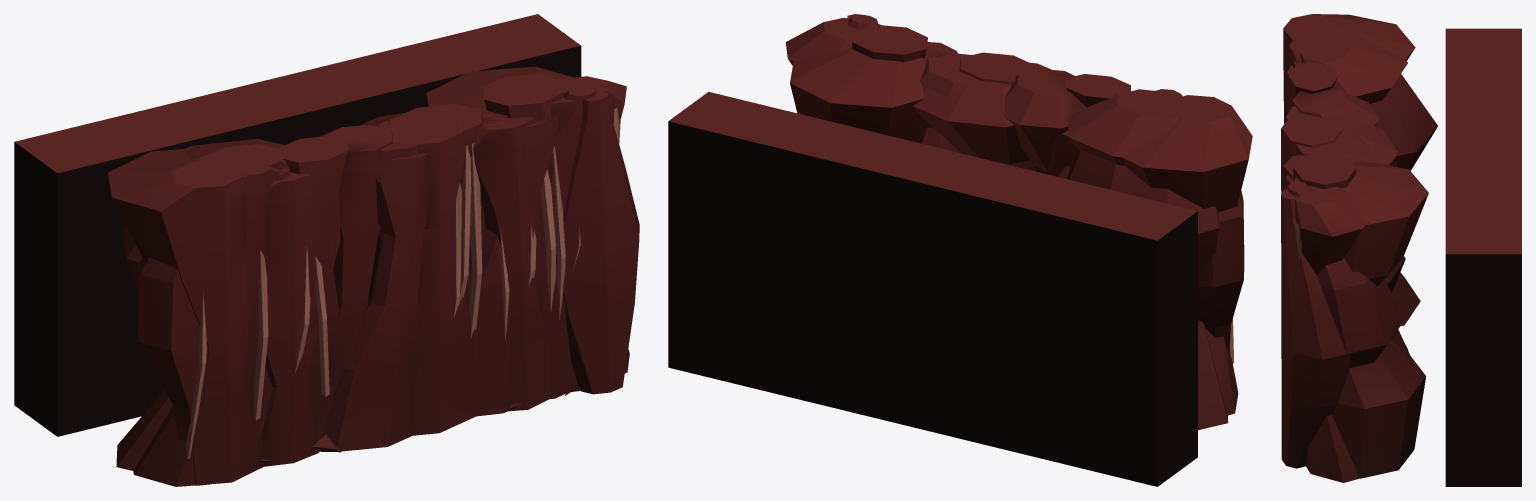
File: cliff-kit.glb
3 views of the same model, side by side, from view 1: azimuth 30°, elevation 25°; view 2: azimuth 150°, elevation 25°; view 3: azimuth 270°, elevation 25° (orthographic). The views are drawn at different scales.
Visible parts, largest first — view 1: flesh_wall_0, flesh_wall_1, flesh_wall_3, flesh_wall_2; view 2: flesh_wall_0, flesh_wall_2, flesh_wall_3, flesh_wall_1; view 3: flesh_wall_0, flesh_wall_3, flesh_wall_1, flesh_wall_2.
Part boxes in pixels (x1,y1,x2,y2): flesh_wall_0: (14,14,629,486); flesh_wall_1: (138,74,596,485); flesh_wall_3: (122,91,639,462); flesh_wall_2: (116,66,580,470); flesh_wall_0: (668,18,1252,486); flesh_wall_2: (790,42,1228,429); flesh_wall_3: (847,14,1219,280); flesh_wall_1: (848,14,1244,363); flesh_wall_0: (1283,14,1521,486); flesh_wall_3: (1281,40,1437,468); flesh_wall_1: (1281,25,1426,478); flesh_wall_2: (1283,28,1428,326).
Bounding box in the file's own units: 2.1 × 1.15 × 0.9476.
